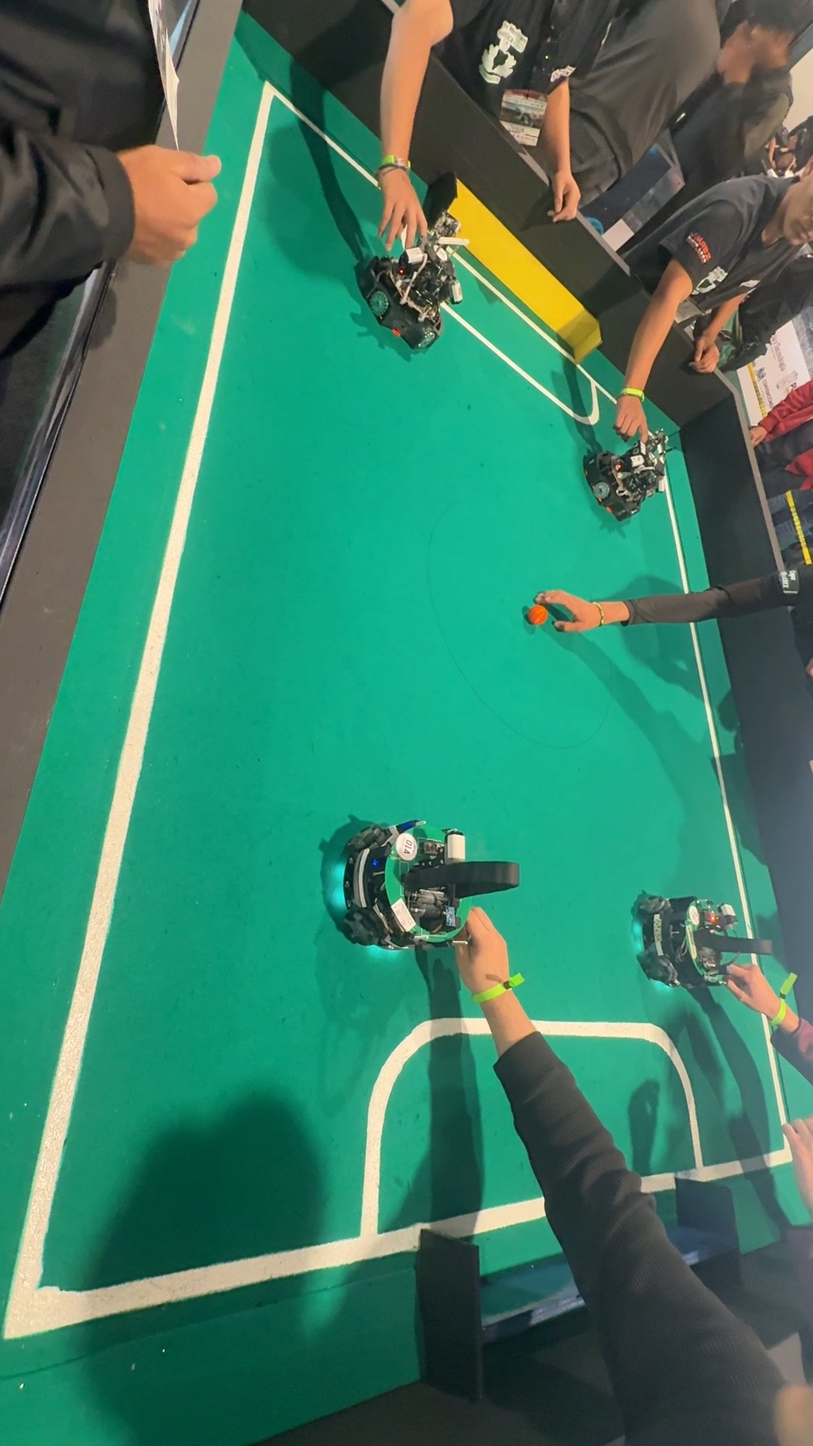Robot: (318, 792, 469, 971), (362, 235, 474, 367), (630, 874, 752, 994), (573, 438, 670, 532)
pelota: (522, 602, 554, 637)
